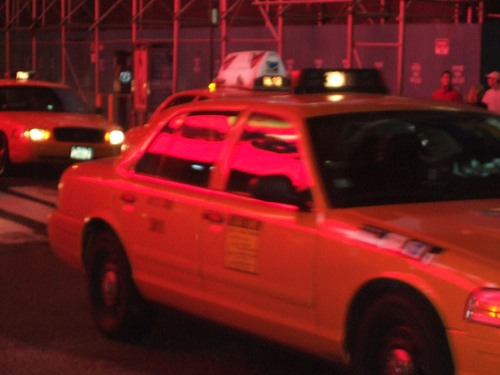car: (5, 69, 125, 174)
